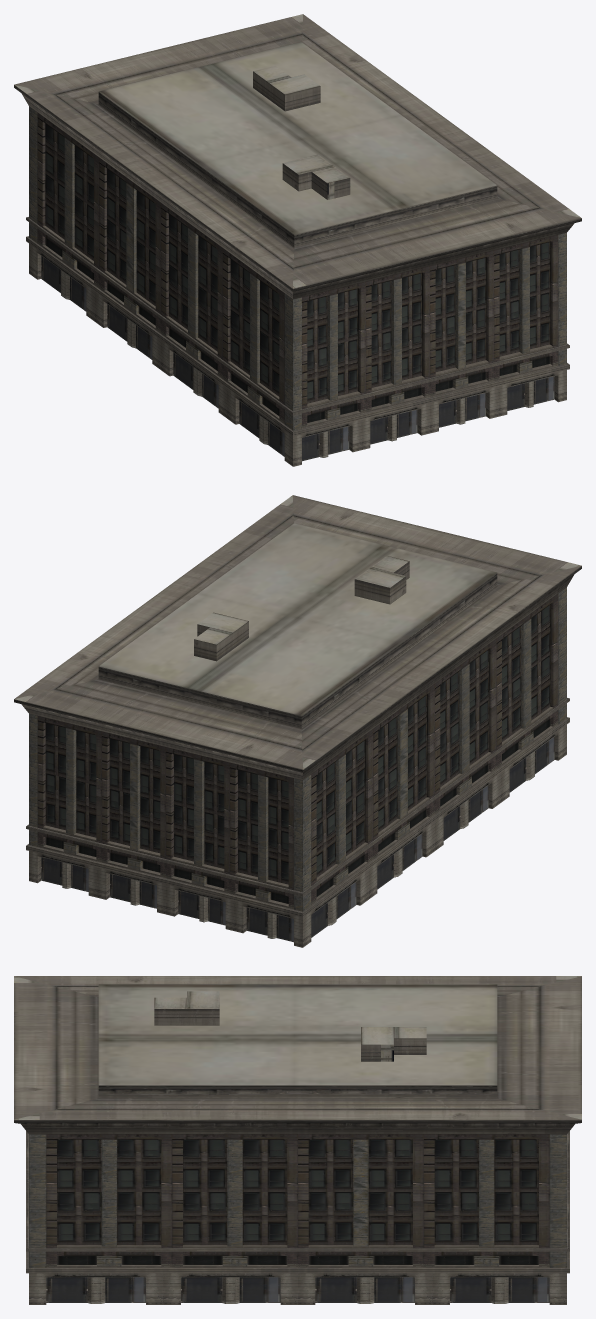
The model's file is Downtown_Residential_4.fbx.
The picture shows the model from 3 angles, top to bottom: view 1: azimuth 30°, elevation 25°; view 2: azimuth 150°, elevation 25°; view 3: azimuth 270°, elevation 25°; orthographic projection.
Visible parts, largest first — view 1: Downtown_Residential_4__1_; view 2: Downtown_Residential_4__1_; view 3: Downtown_Residential_4__1_.
Boxes of the visible parts, x1,y1,x2,y2 form: Downtown_Residential_4__1_: (14,14,581,466); Downtown_Residential_4__1_: (14,495,581,947); Downtown_Residential_4__1_: (14,976,581,1304).
Size of the model in its own units: 4896 by 3477 by 8179.
Materials: 2 (2 with a texture image).
